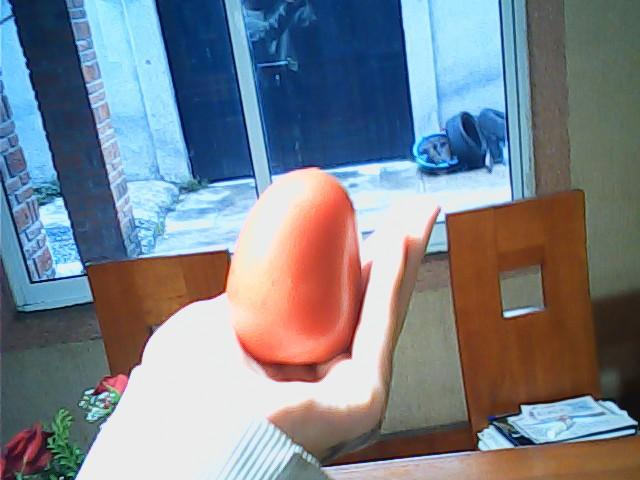maduro: (229, 164, 364, 367)
